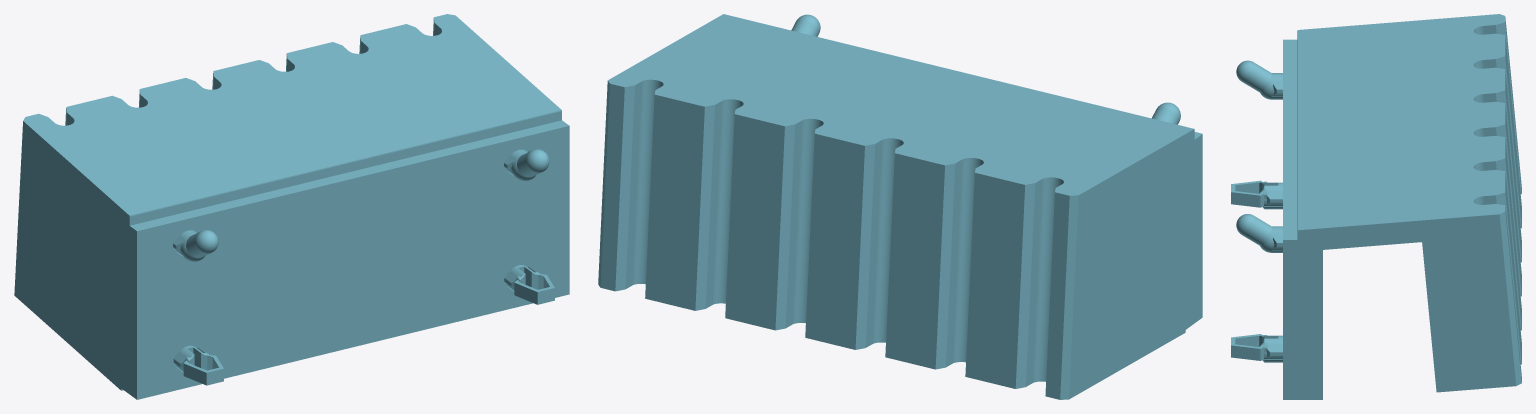
File: part-mh01__current-mounts-v1__fit-pf02c9-hoop5__installed.glb
The picture shows the model from 3 angles, left to right: view 1: azimuth 30°, elevation 25°; view 2: azimuth 150°, elevation 25°; view 3: azimuth 270°, elevation 25°; orthographic projection. The views are drawn at different scales.
Visible parts, largest first — view 1: installed.stl; view 2: installed.stl; view 3: installed.stl.
Boxes of the visible parts, x1,y1,x2,y2 form: installed.stl: [14, 14, 569, 399]; installed.stl: [598, 14, 1202, 399]; installed.stl: [1231, 14, 1521, 399].
Bounding box in the file's own units: 0.0996 × 0.0437 × 0.0611.
